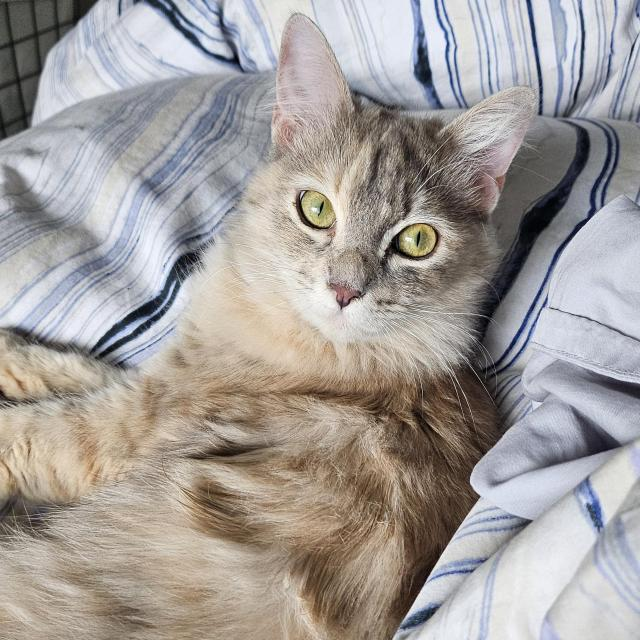domestic_long_hair_cat: (226, 11, 563, 437)
